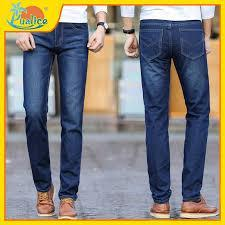pants: (139, 17, 213, 203), (22, 20, 91, 199)
